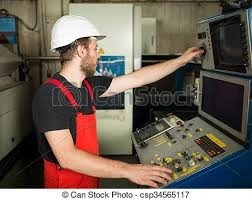helmet: (49, 13, 110, 53)
person with partial safety: (31, 13, 109, 188)
